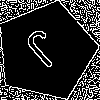J: (21, 26, 71, 78)
